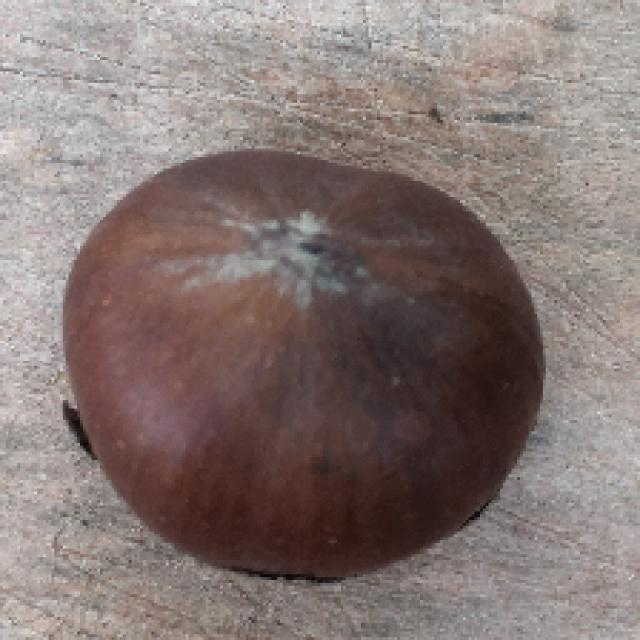damagedHazelnut: (41, 148, 561, 592)
